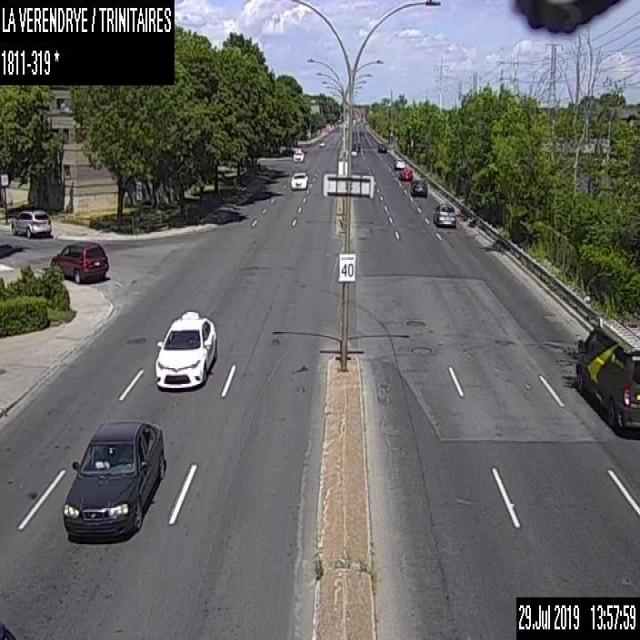vehicle: (61, 415, 165, 544), (573, 315, 639, 433), (154, 308, 217, 389), (49, 238, 109, 282), (12, 207, 52, 236), (431, 197, 458, 227), (409, 178, 427, 196), (290, 171, 307, 189), (292, 148, 304, 162), (399, 168, 412, 180), (394, 157, 405, 168), (376, 141, 386, 152), (318, 138, 326, 147), (353, 142, 360, 152)
